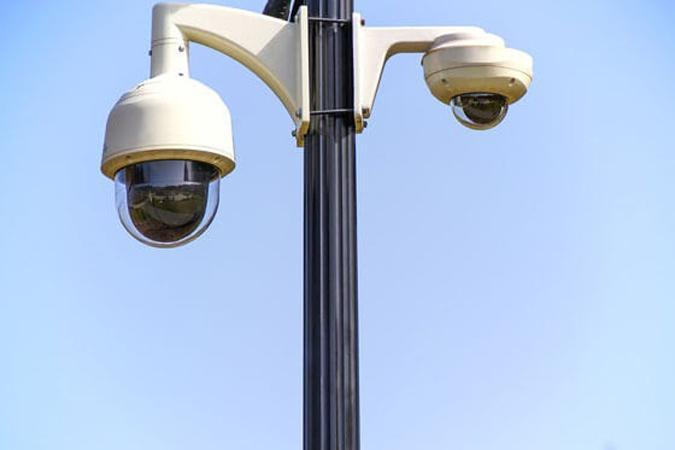360-Cam: (95, 69, 241, 251), (409, 34, 544, 137)
